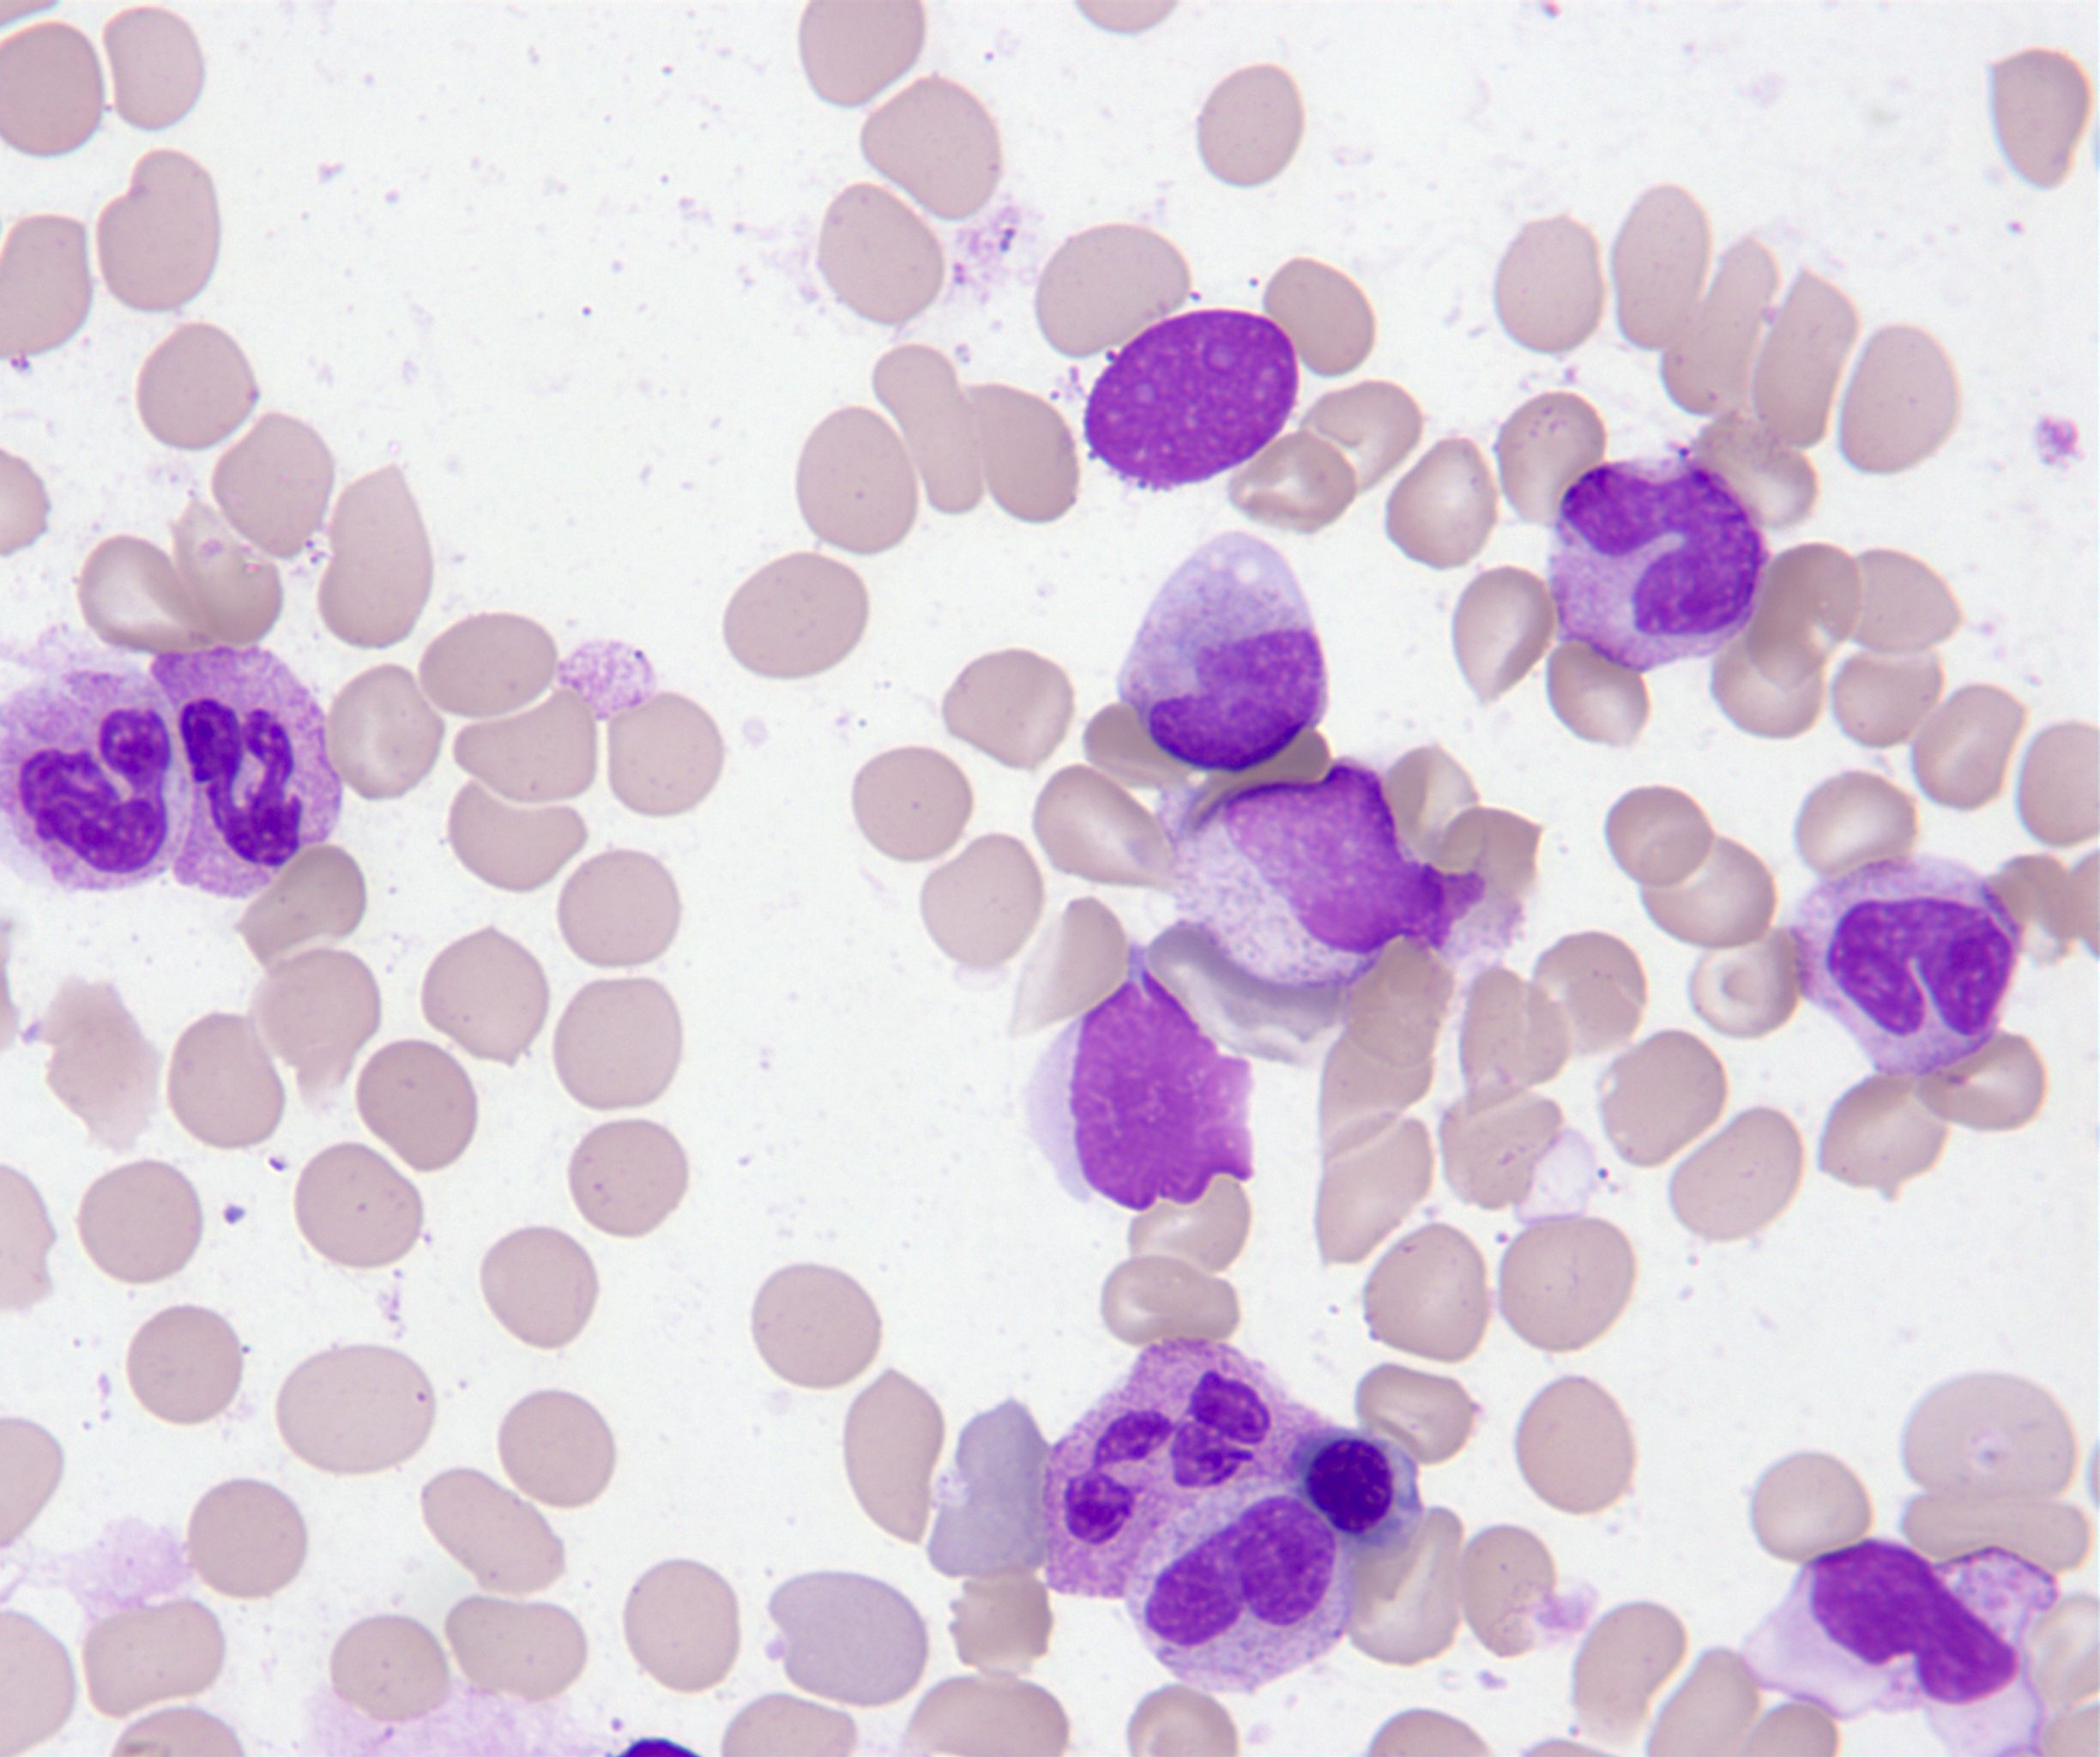24: (1287, 1424, 1430, 1555)
3: (1165, 750, 1502, 998), (1732, 1534, 2051, 1757), (1109, 522, 1333, 776)
4: (1125, 1473, 1369, 1696)
5: (1788, 844, 2032, 1085), (1540, 447, 1776, 682)
6: (1038, 1330, 1322, 1607), (150, 639, 349, 902), (0, 649, 195, 895)
x: (1017, 933, 1259, 1218), (1078, 304, 1301, 499)
